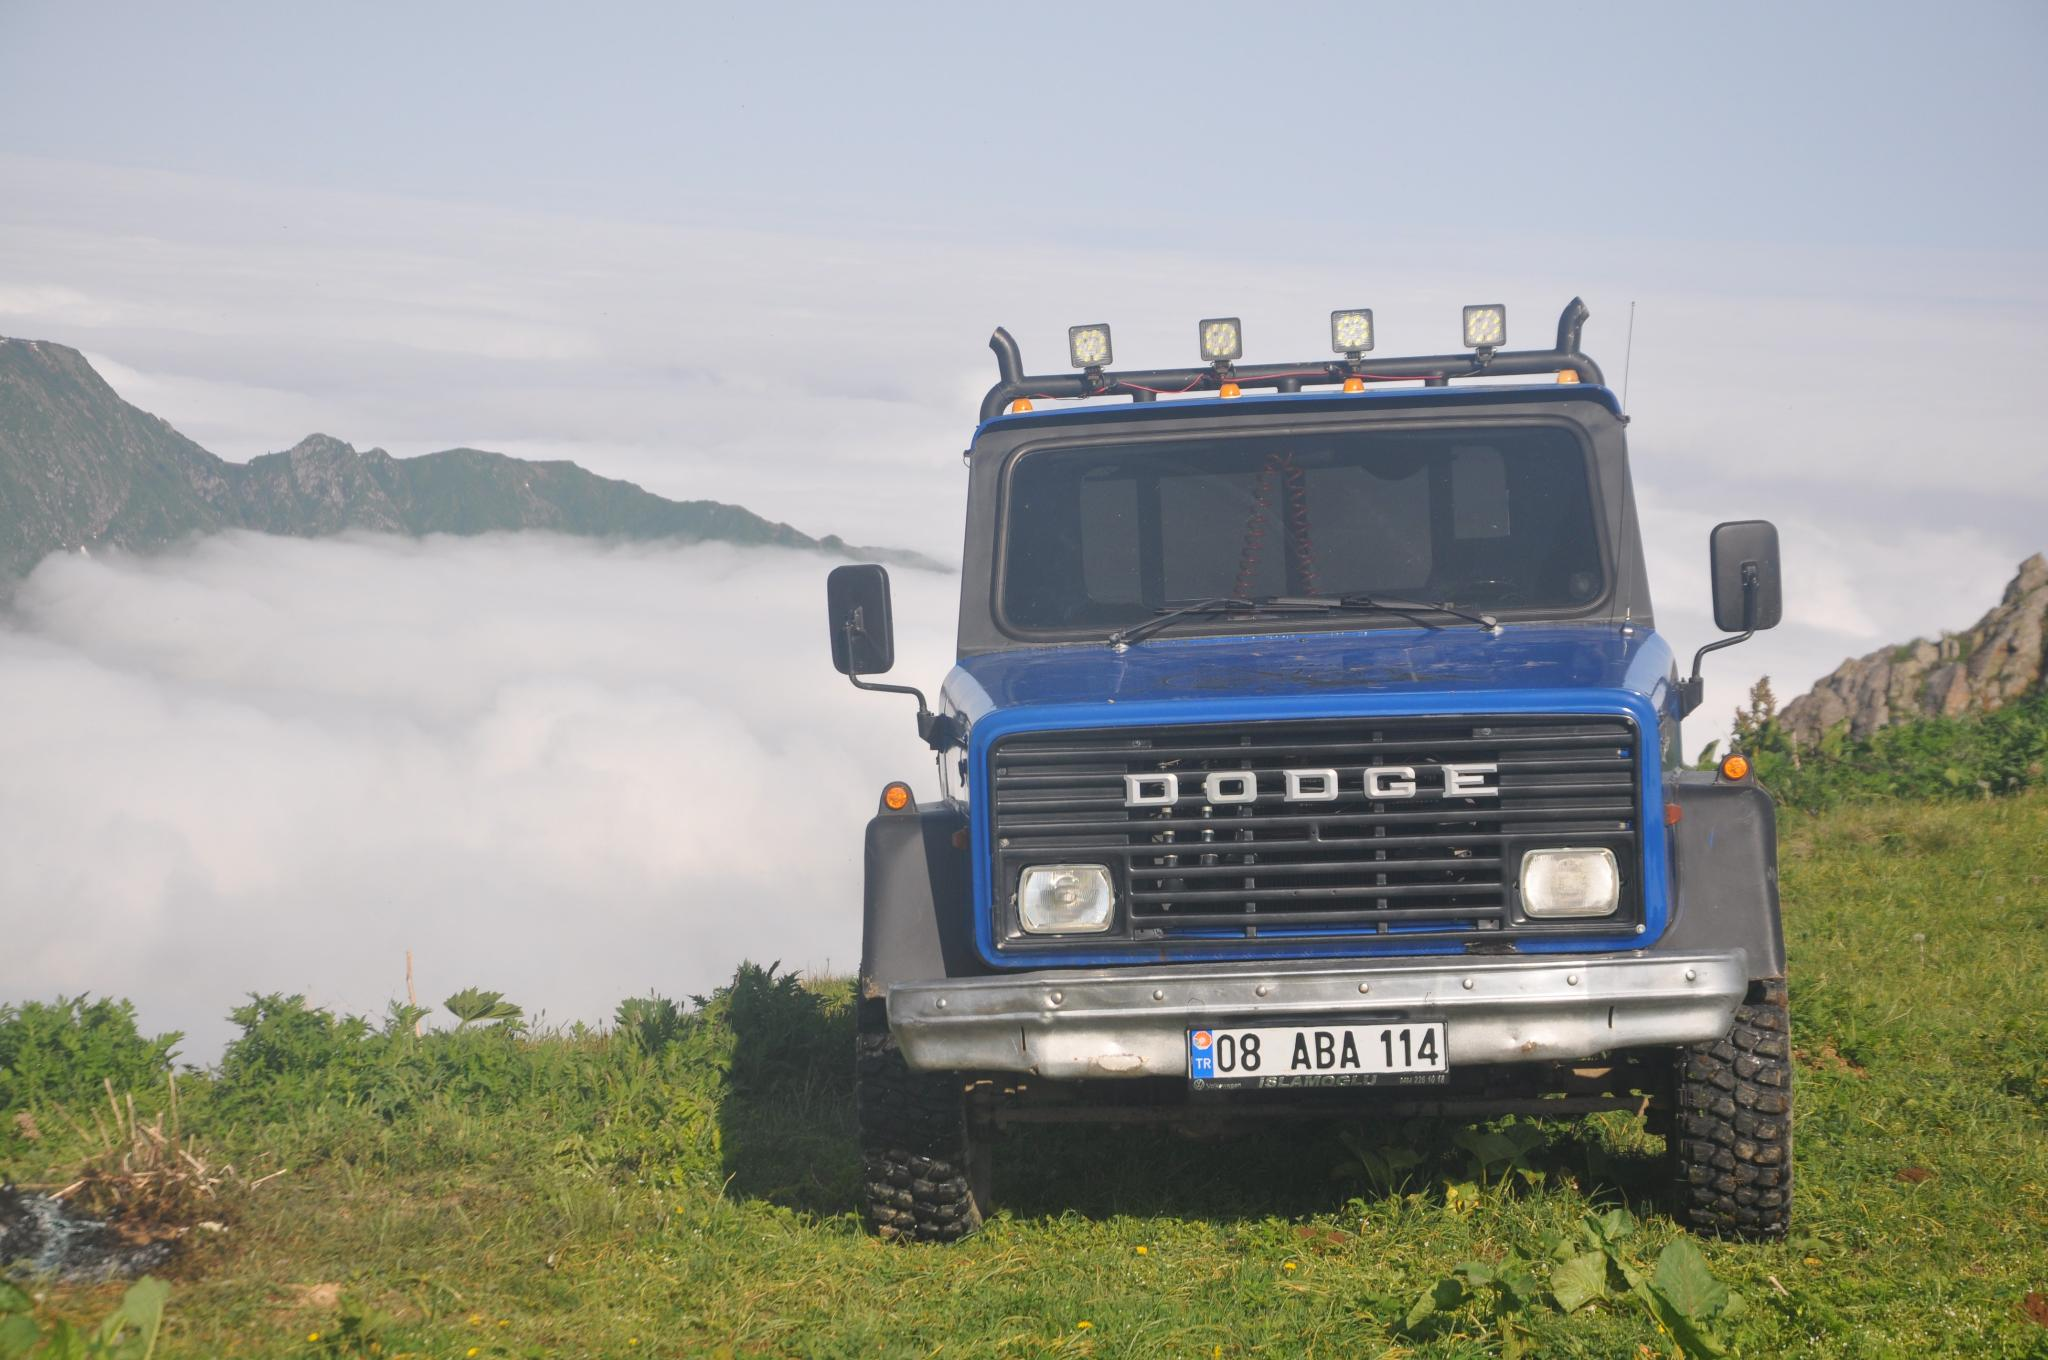dodge: (1110, 745, 1529, 824)
